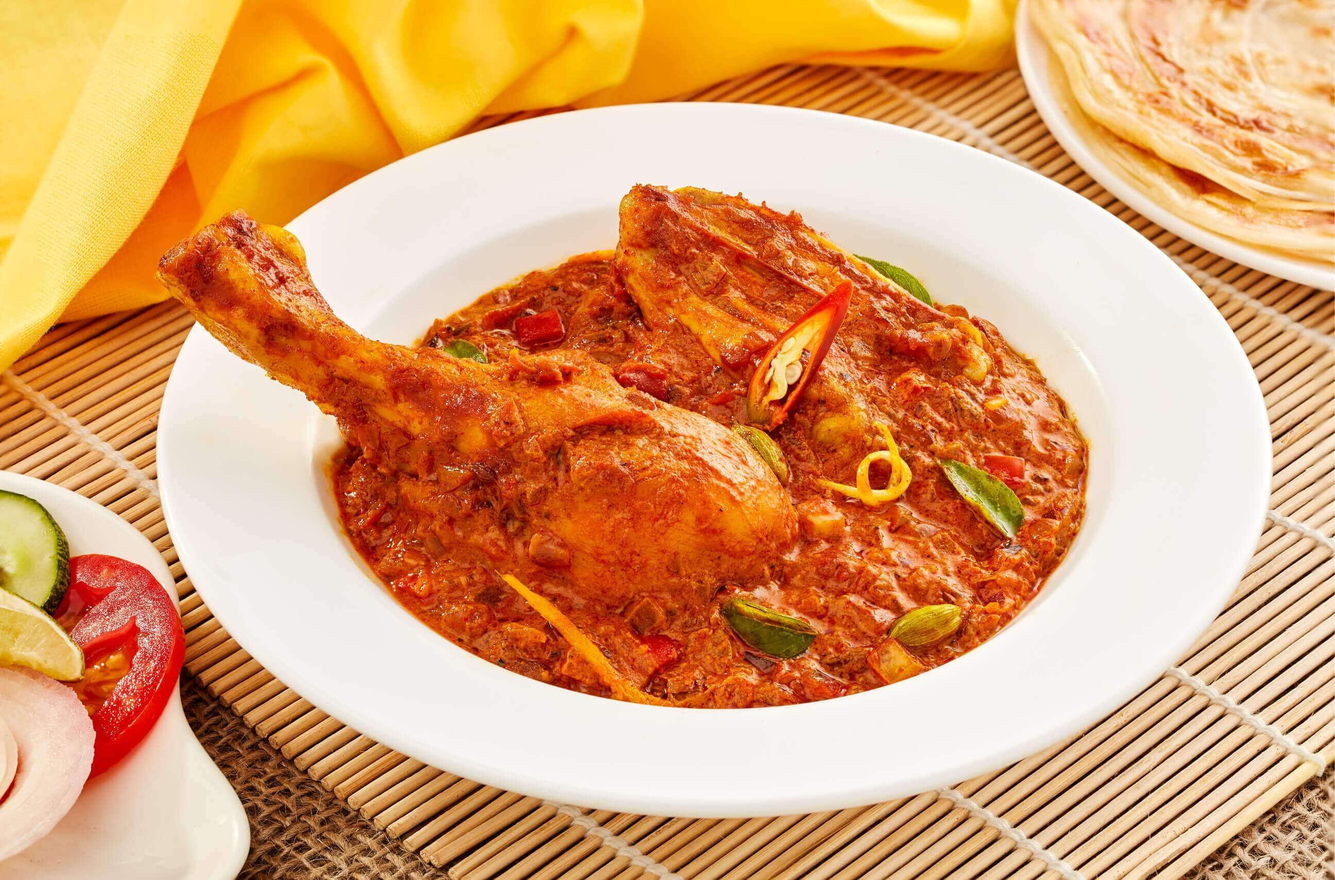chicken: (242, 189, 1056, 684)
